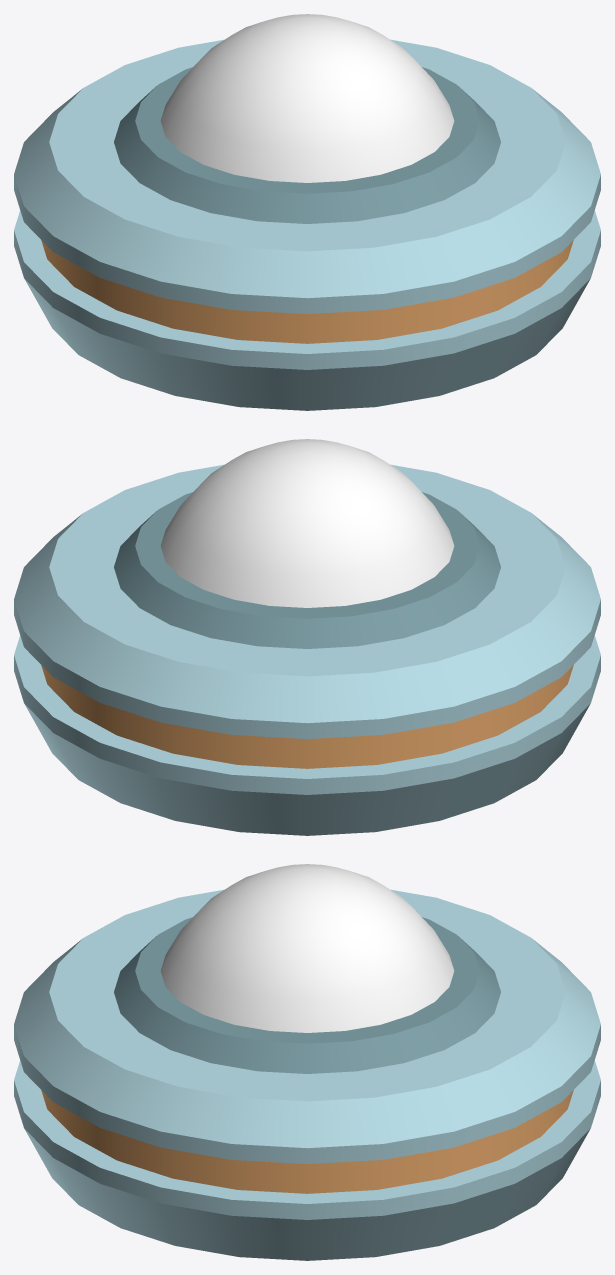
The model's file is enemy_ufoYellow.dae.
3 views of the same model, one above another, from view 1: azimuth 30°, elevation 25°; view 2: azimuth 150°, elevation 25°; view 3: azimuth 270°, elevation 25° (orthographic).
Visible parts, largest first — view 1: enemy_ufoYellow; view 2: enemy_ufoYellow; view 3: enemy_ufoYellow.
Boxes of the visible parts, left/top/right/bottom form: enemy_ufoYellow: left=14, top=14, right=600, bottom=410; enemy_ufoYellow: left=14, top=439, right=600, bottom=835; enemy_ufoYellow: left=14, top=864, right=600, bottom=1260.
Bounding box in the file's own units: 1 × 0.51 × 1.
